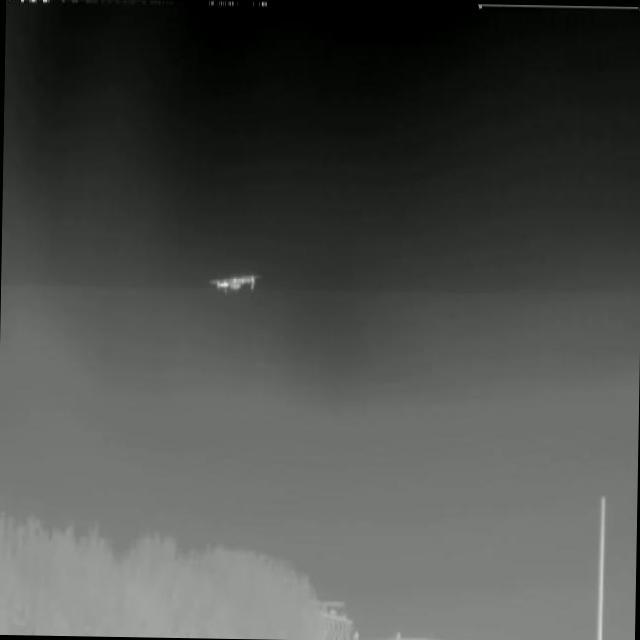DRONE: (205, 264, 264, 298)
